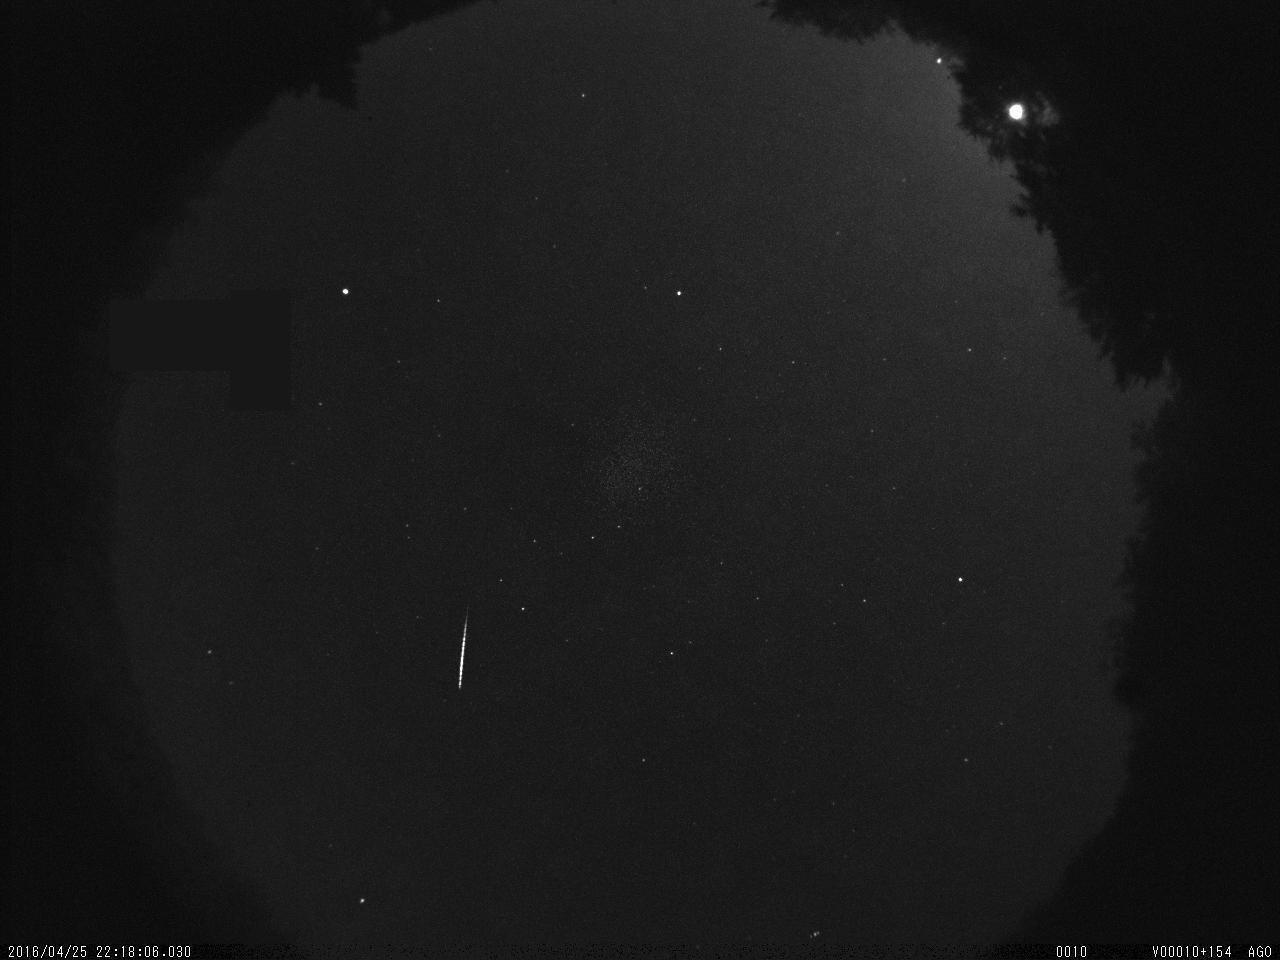Meteor: (446, 593, 478, 706)
